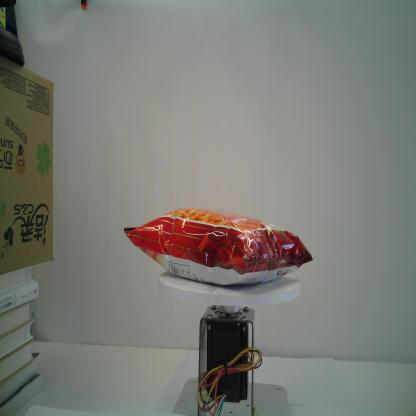Puffed Food: (122, 207, 314, 287)
